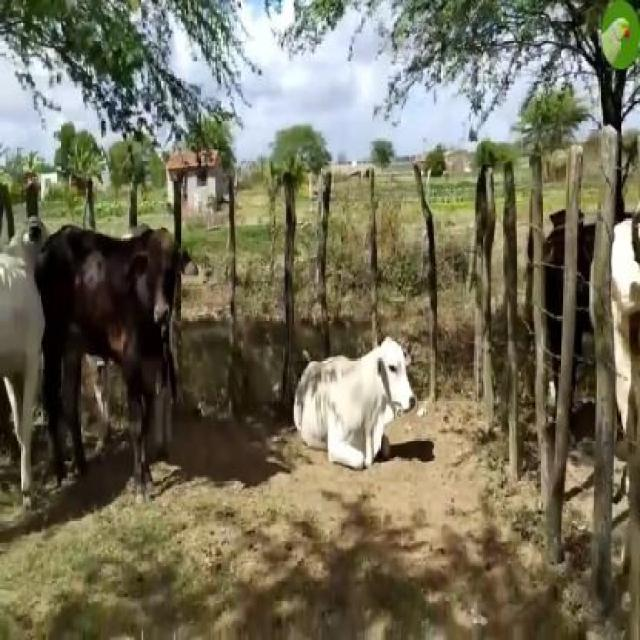Cow: (48, 226, 198, 503), (294, 339, 415, 463)
